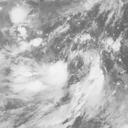cyclone: (32, 45, 91, 102)
